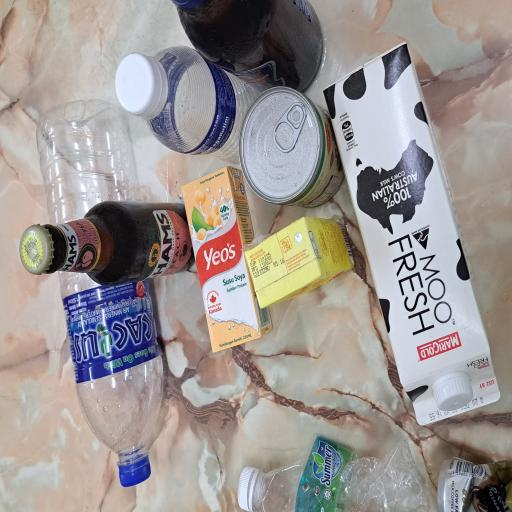can: (232, 321, 318, 452)
drink carton: (66, 432, 350, 512), (114, 243, 259, 339), (156, 328, 224, 474)
glass bottle: (168, 26, 234, 255), (313, 226, 384, 438)
plastic bottle: (53, 51, 310, 218), (0, 334, 51, 512)
plastic bottle cap: (300, 151, 344, 216), (4, 310, 34, 352), (20, 151, 42, 203)
pop tab: (272, 368, 306, 413)
